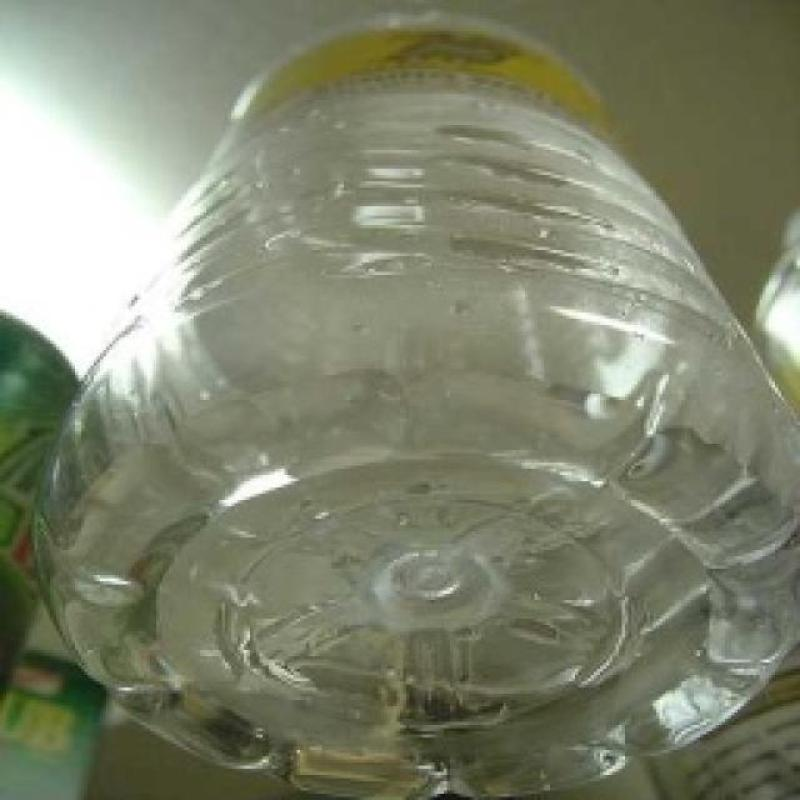botella: (37, 9, 800, 800)
